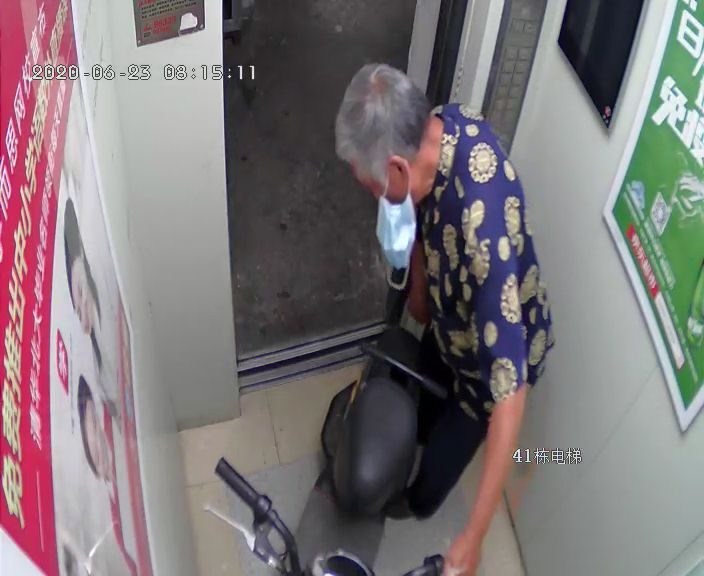Electric-bicycle: (211, 286, 473, 571)
